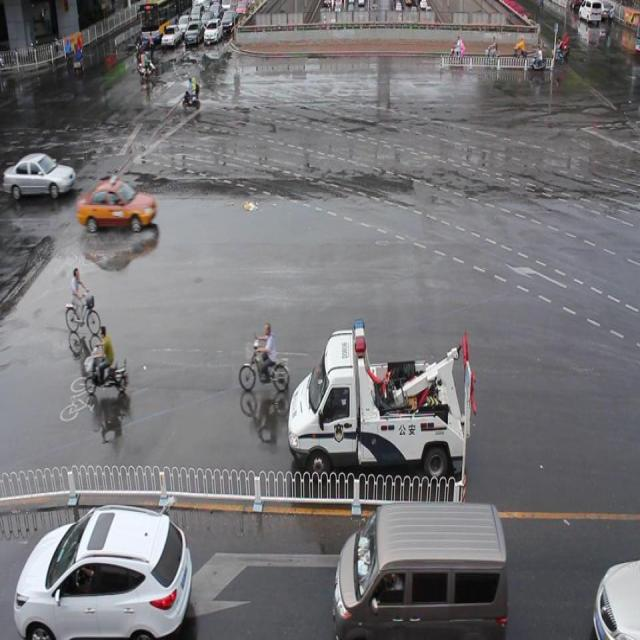bus: (289, 308, 475, 475)
car: (15, 506, 192, 640), (590, 554, 640, 640), (77, 178, 156, 230)
truck: (331, 501, 507, 640)
